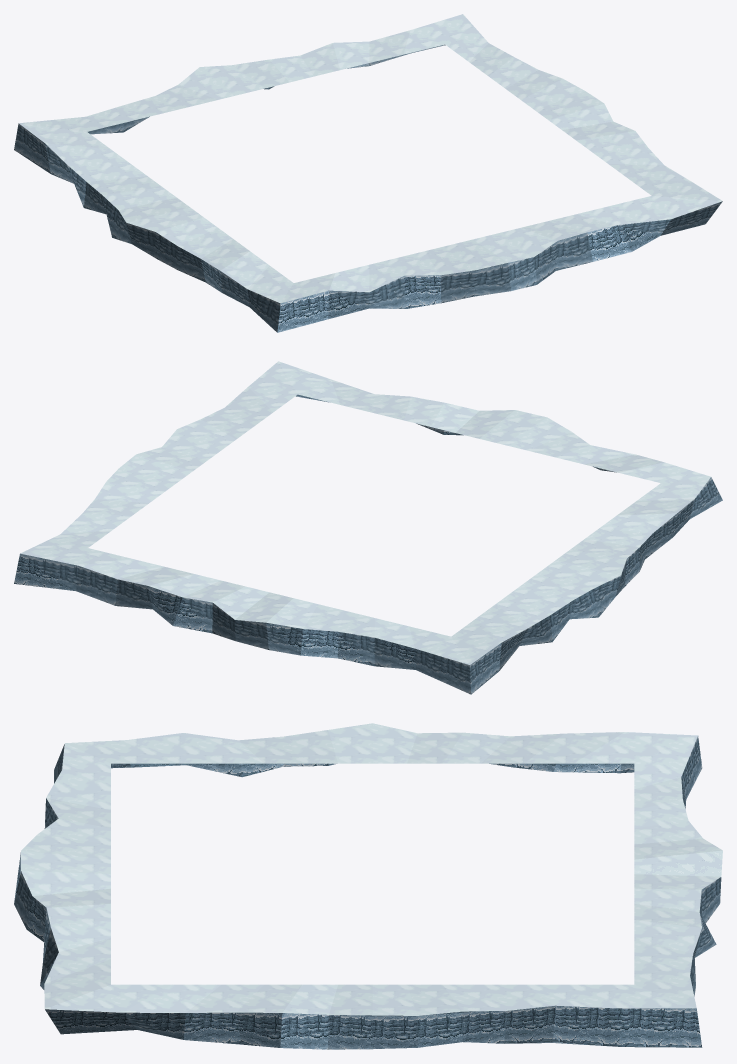
File: entorno.glb
3 renders of one model, top to bottom at view 1: azimuth 30°, elevation 25°; view 2: azimuth 150°, elevation 25°; view 3: azimuth 270°, elevation 25°, orthographic. The views are drawn at different scales.
Visible parts, largest first — view 1: neve_entorno; view 2: neve_entorno; view 3: neve_entorno.
Boxes of the visible parts, box(x1,y1,x2,y2) form: neve_entorno: box(14, 14, 722, 332); neve_entorno: box(14, 361, 722, 694); neve_entorno: box(14, 723, 722, 1049).
Bounding box in the file's own units: 16.31 × 1.06 × 16.52.
Materials: 2 (2 with a texture image).
